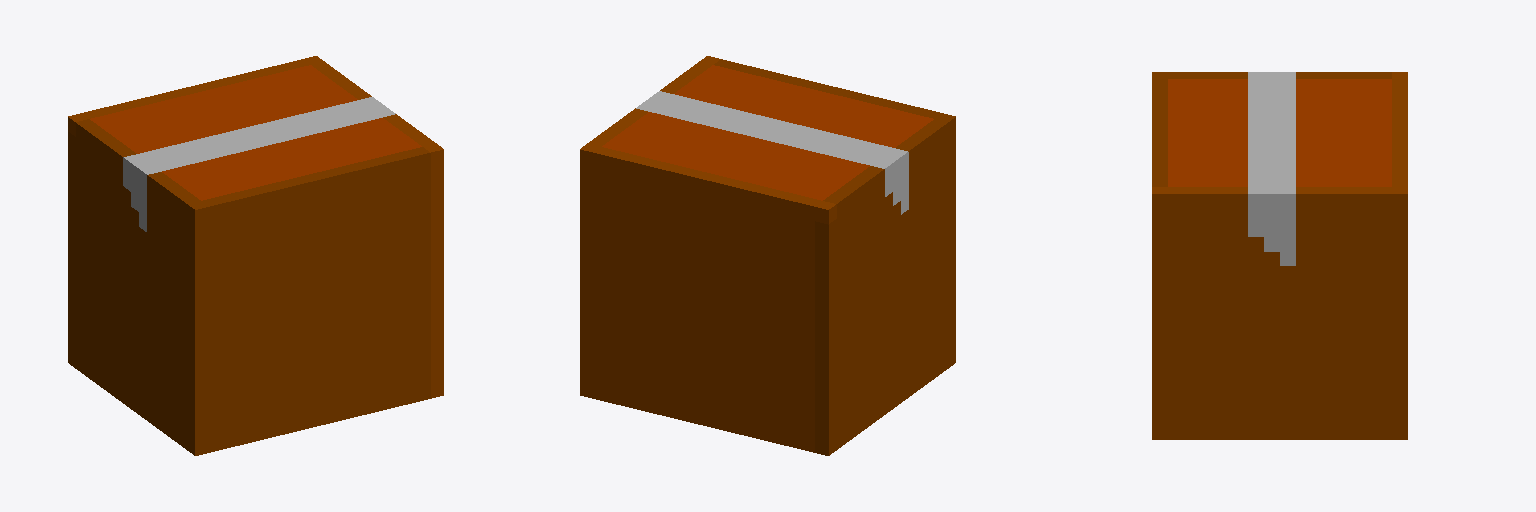
The picture shows the model from 3 angles: view 1: azimuth 30°, elevation 25°; view 2: azimuth 150°, elevation 25°; view 3: azimuth 270°, elevation 25°; orthographic projection.
Parts seen in each view (by area): view 1: ObjObject.004_ObjObject.004_palette.004; view 2: ObjObject.004_ObjObject.004_palette.004; view 3: ObjObject.004_ObjObject.004_palette.004.
Part boxes in pixels (x1,y1,x2,y2): ObjObject.004_ObjObject.004_palette.004: (68,56,443,455); ObjObject.004_ObjObject.004_palette.004: (580,56,955,455); ObjObject.004_ObjObject.004_palette.004: (1152,72,1407,439).
Bounding box in the file's own units: 1.8 × 1.7 × 1.6.
1 materials, 1 textured.